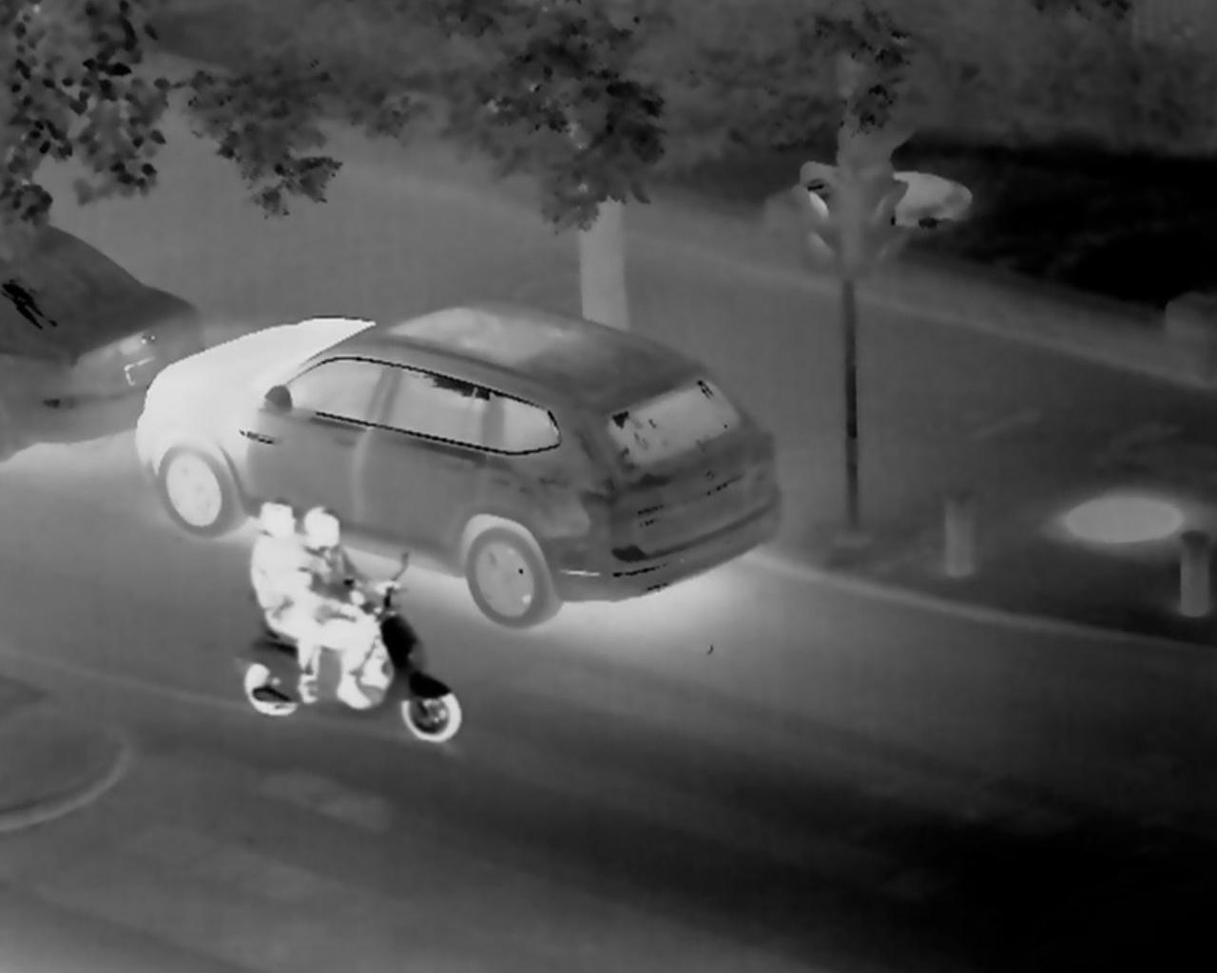person: (288, 505, 387, 711), (244, 493, 328, 709)
